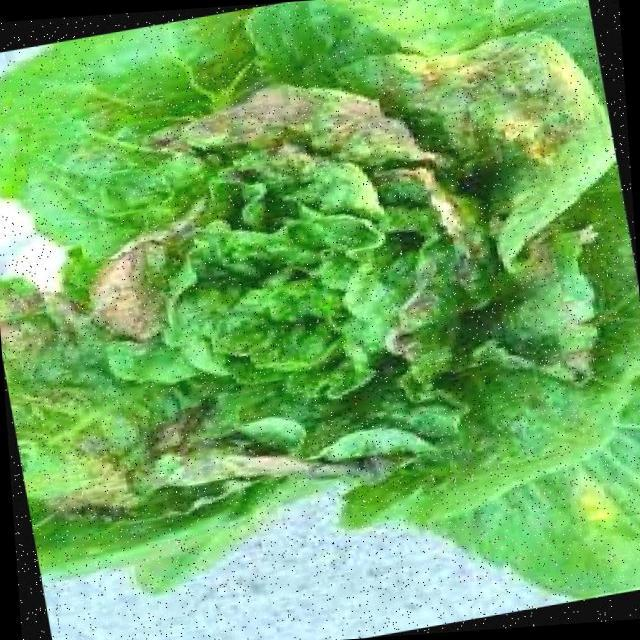Lettuce Mosaic Virus: (56, 21, 640, 503)
